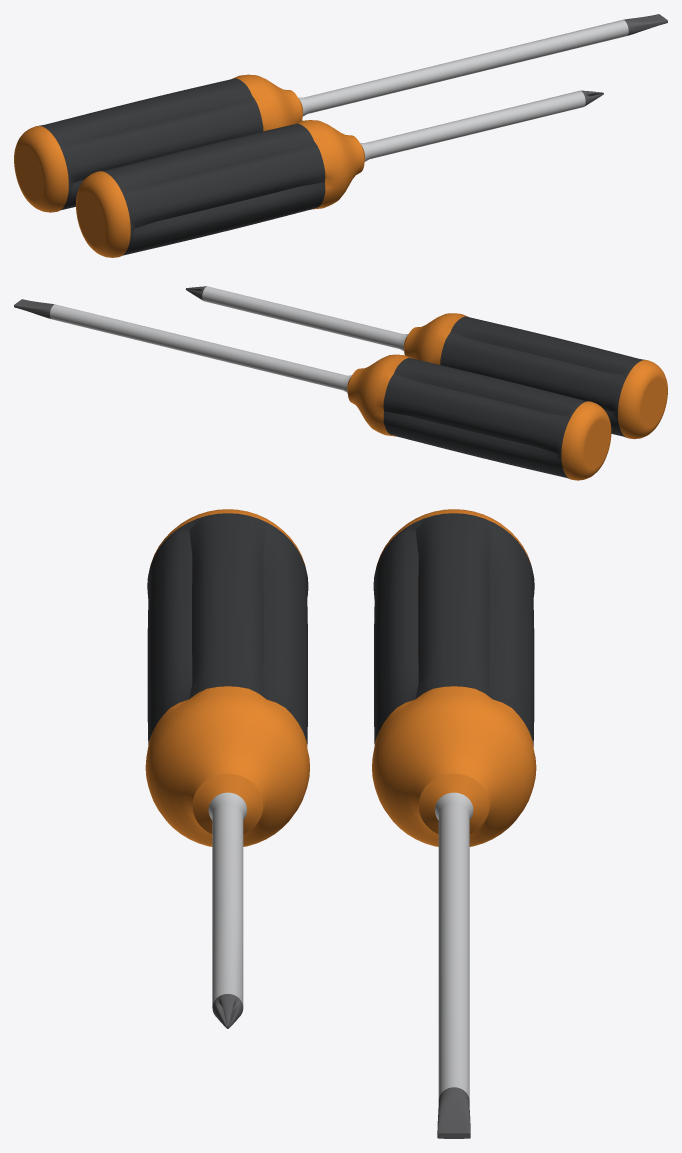
The model's file is chave-fenda-phillips.glb.
3 views of the same model, one above another, from view 1: azimuth 30°, elevation 25°; view 2: azimuth 150°, elevation 25°; view 3: azimuth 270°, elevation 25° (orthographic). The views are drawn at different scales.
Parts seen in each view (by area): view 1: cabo, haste, ponta; view 2: cabo, haste, ponta; view 3: cabo, haste, ponta.
Boxes of the visible parts, <box> form: cabo: <box>14,74,364,257</box>; haste: <box>298,20,628,161</box>; ponta: <box>581,14,667,105</box>; cabo: <box>347,313,667,480</box>; haste: <box>50,286,408,392</box>; ponta: <box>14,286,206,318</box>; cabo: <box>145,509,536,846</box>; haste: <box>208,792,473,1100</box>; ponta: <box>212,994,470,1138</box>.
Bounding box in the file's own units: 0.26 × 0.0323 × 0.076.
